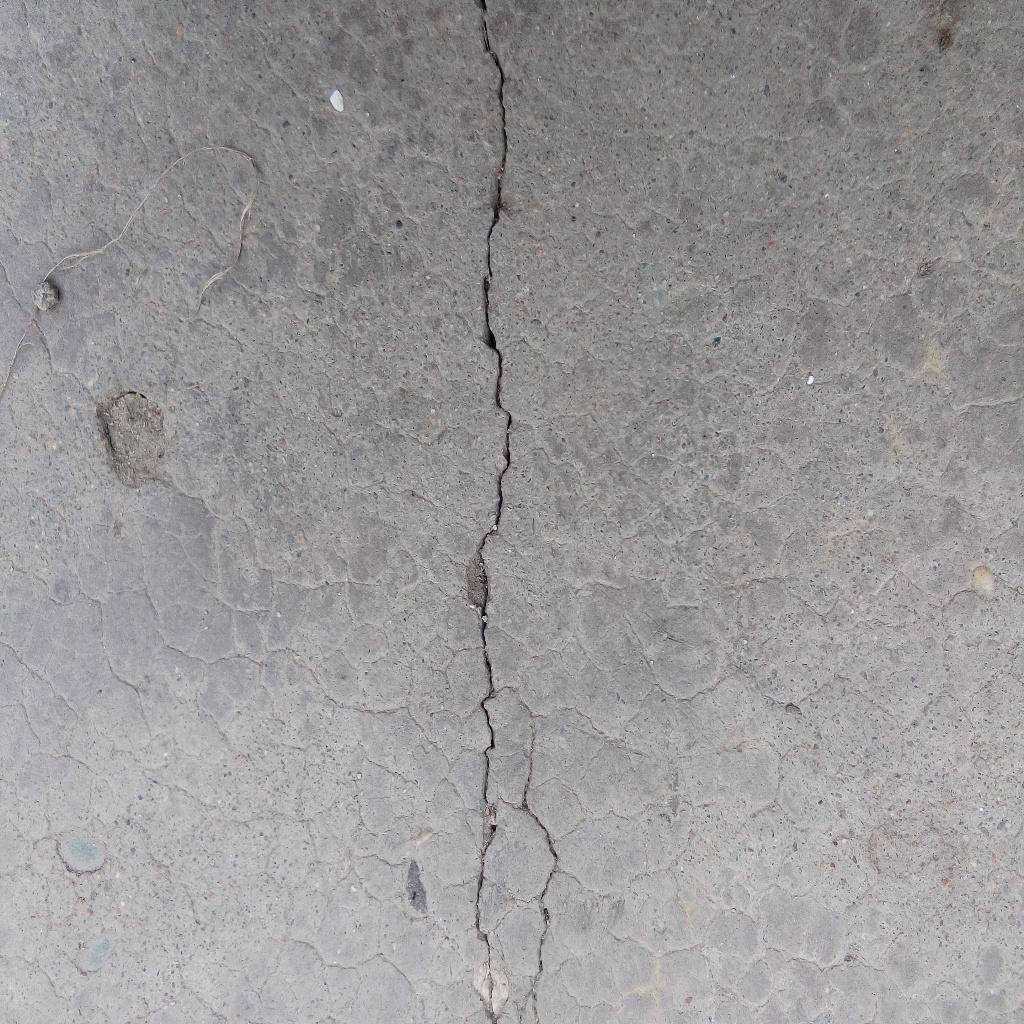Crack: (464, 1, 561, 1024)
Spalling: (95, 386, 170, 489)
